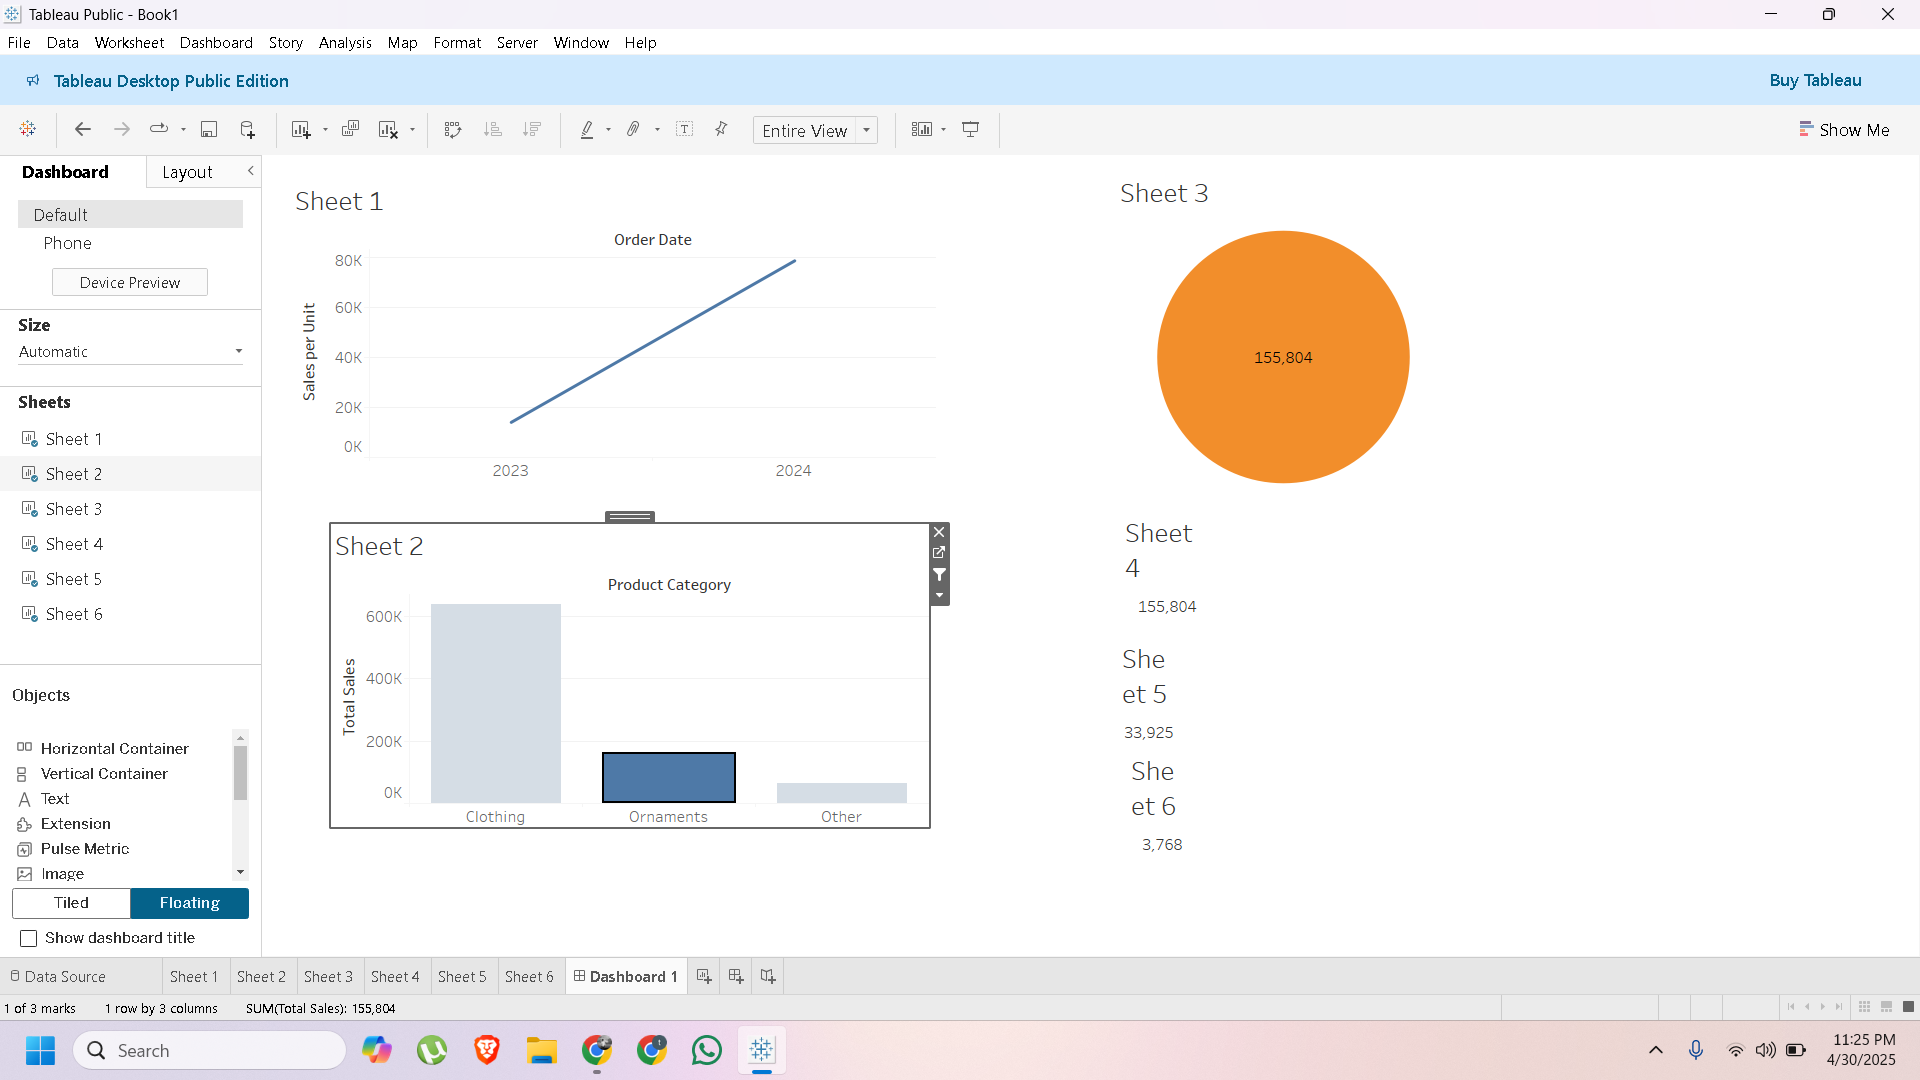

This screenshot's page, from the dashboard's own definition file:
{"tool":"tableau","page":{"name":"Dashboard 1","canvas":[1000,1000],"units":"permille","ordinal":0},"visuals":[{"type":"worksheet","title":"Sheet 3","mark":"Pie","box":[515.3,20.2,398.2,408.3]},{"type":"worksheet","title":"Sheet 1","mark":"Automatic","rows":["Sales per Unit"],"cols":["Order Date"],"box":[17.5,30.3,389.5,378]},{"type":"worksheet","title":"Sheet 4","mark":"Text","box":[518.6,445,180.5,134]},{"type":"worksheet","title":"Sheet 2","mark":"Automatic","rows":["Total Sales"],"cols":["Product Category"],"box":[41.6,460.2,361.1,379.3]},{"type":"worksheet","title":"Sheet 5","mark":"Automatic","box":[516.4,601.8,217.7,141.6]},{"type":"worksheet","title":"Sheet 6","mark":"Automatic","box":[521.9,742.1,168.5,147.9]}]}

Visuals, with their boxes on the dashboard's canvas, which has no fixed pixel size, in thousandths of its width and height (x1, y1, x2, y2). These are canvas units, not pixel positions in the 1920x1080 screenshot, which may show the page scaled, cropped or inside an application window:
"Sheet 3" worksheet (Pie marks): bbox=(515, 20, 914, 428)
"Sheet 1" worksheet: bbox=(18, 30, 407, 408)
"Sheet 4" worksheet (Text marks): bbox=(519, 445, 699, 579)
"Sheet 2" worksheet: bbox=(42, 460, 403, 840)
"Sheet 5" worksheet: bbox=(516, 602, 734, 743)
"Sheet 6" worksheet: bbox=(522, 742, 690, 890)
